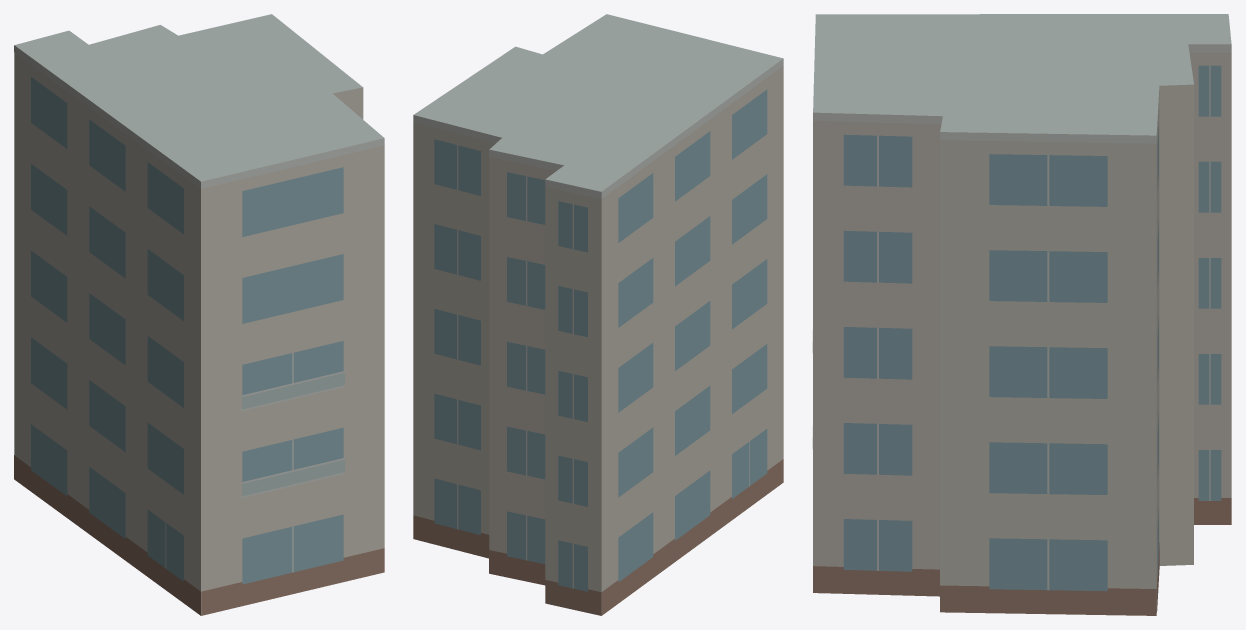
Rendered from survey-upis-32674789.glb.
3 views of the same model, side by side, from view 1: azimuth 30°, elevation 25°; view 2: azimuth 150°, elevation 25°; view 3: azimuth 270°, elevation 25° (orthographic). The views are drawn at different scales.
Visible parts, largest first — view 1: survey-upis-32674789.tmp; view 2: survey-upis-32674789.tmp; view 3: survey-upis-32674789.tmp.
Boxes of the visible parts, x1,y1,x2,y2 form: survey-upis-32674789.tmp: (14,14,384,615); survey-upis-32674789.tmp: (413,14,783,615); survey-upis-32674789.tmp: (812,14,1231,615).
Size of the model in its own units: 7.88 by 14.5 by 11.48.
